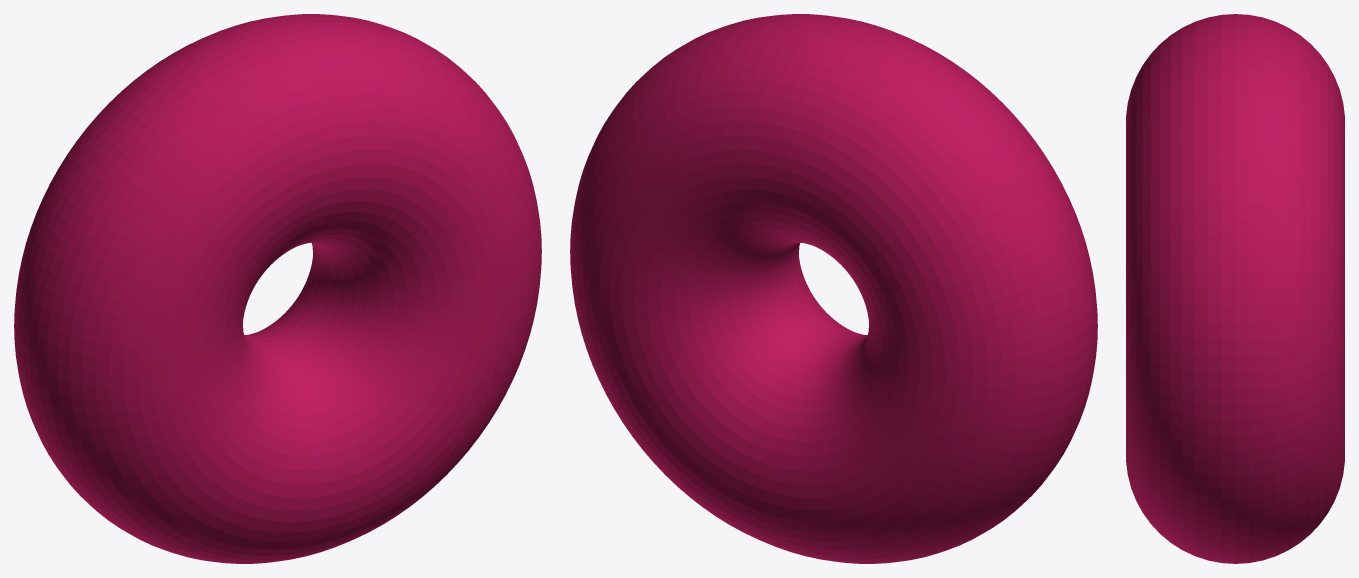
3 renders of one model, left to right at view 1: azimuth 30°, elevation 25°; view 2: azimuth 150°, elevation 25°; view 3: azimuth 270°, elevation 25°, orthographic. The views are drawn at different scales.
Visible parts, largest first — view 1: world; view 2: world; view 3: world.
Boxes of the visible parts, x1,y1,x2,y2 form: world: [14, 14, 541, 563]; world: [570, 14, 1097, 563]; world: [1126, 14, 1344, 563].
Size of the model in its own units: 24.4 by 24.4 by 9.71.
